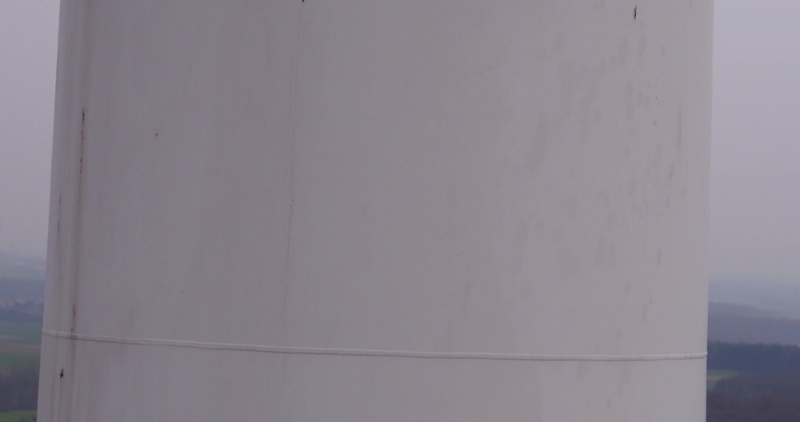weldseam: (35, 321, 716, 366)
